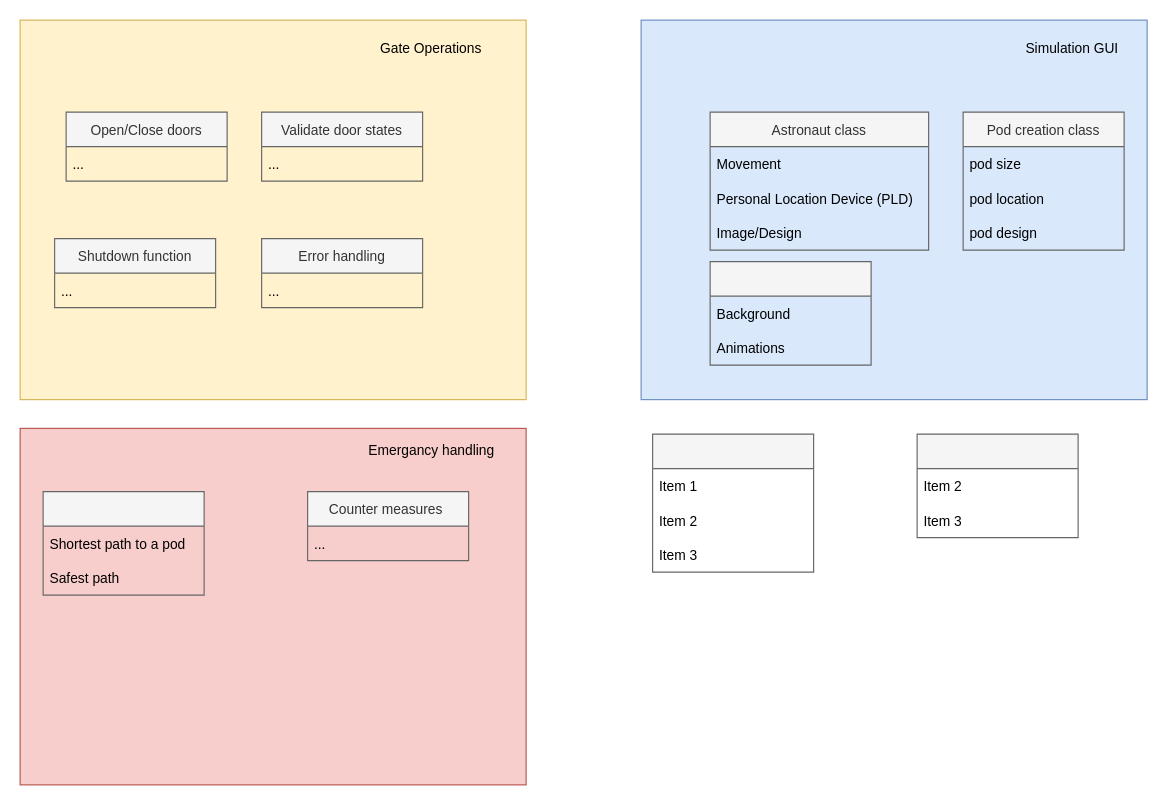
This 1167x805 diagram has some shape labels left out. The box of each missing label's shape, as (x1, y1, x2, y2) in pixels:
Control Pannel: (651, 433, 814, 572)
Enviroment creation: (709, 260, 871, 365)
Path finding: (42, 490, 204, 595)
Test interpreter: (916, 433, 1078, 538)
